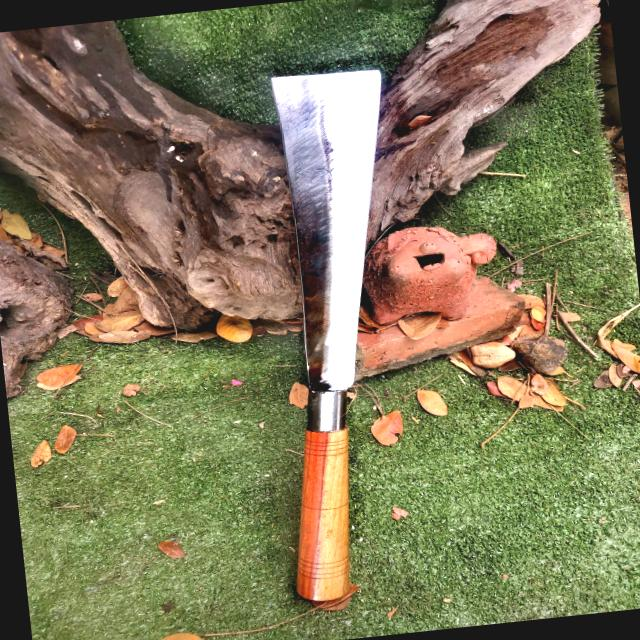eto: (251, 60, 396, 607)
